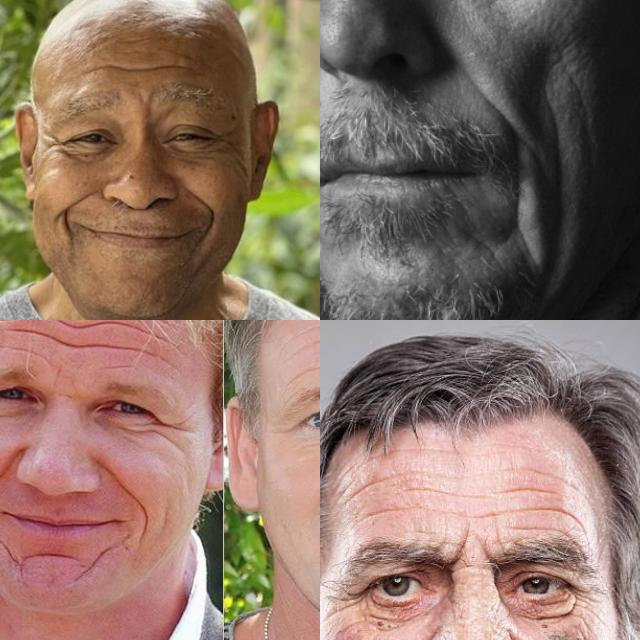chin: (20, 548, 78, 570), (89, 544, 117, 572), (0, 526, 13, 558)
crows_feet: (320, 584, 366, 623), (568, 578, 602, 624), (154, 416, 186, 448), (39, 130, 65, 158), (211, 130, 233, 154)
forehead: (500, 469, 572, 527), (409, 465, 485, 513), (98, 52, 190, 80), (37, 320, 105, 353), (338, 462, 392, 500), (117, 320, 159, 359)
frown_line: (452, 522, 492, 572), (47, 364, 67, 390)
gummy_smile: (462, 60, 508, 124), (99, 461, 143, 505), (189, 186, 219, 232), (59, 192, 89, 232), (0, 457, 17, 495)
masseter: (539, 108, 573, 174)
sad_smile: (498, 158, 536, 225), (134, 516, 152, 544)
